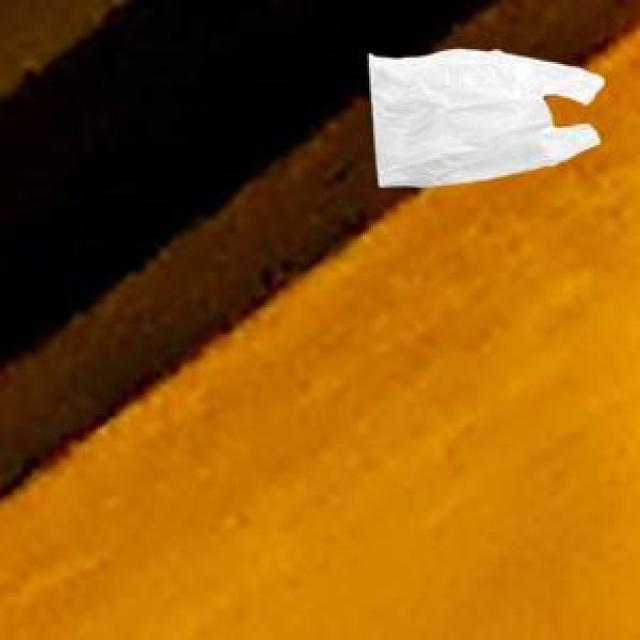waste: (369, 50, 604, 187)
